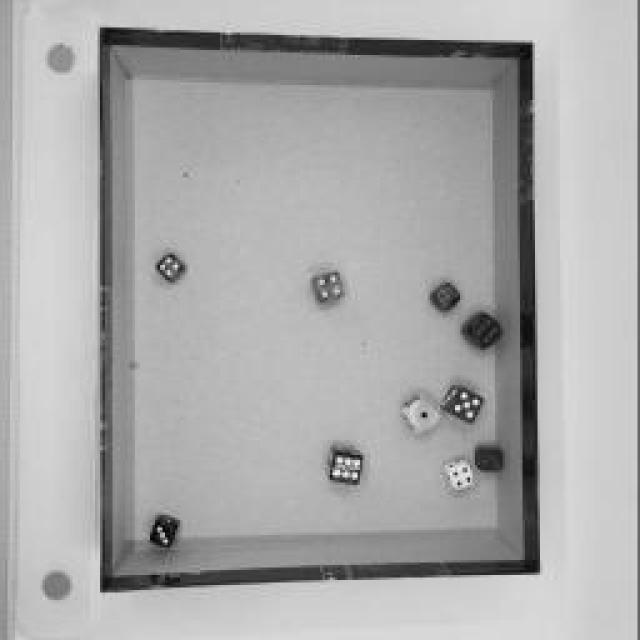dice_1: (405, 392, 440, 438)
dice_2: (478, 448, 504, 478)
dice_3: (148, 515, 182, 550)
dice_4: (312, 266, 348, 306), (443, 457, 475, 495), (428, 281, 464, 311), (154, 254, 184, 284)
dice_5: (445, 382, 485, 422)
dice_6: (461, 310, 504, 350), (325, 445, 365, 485)
